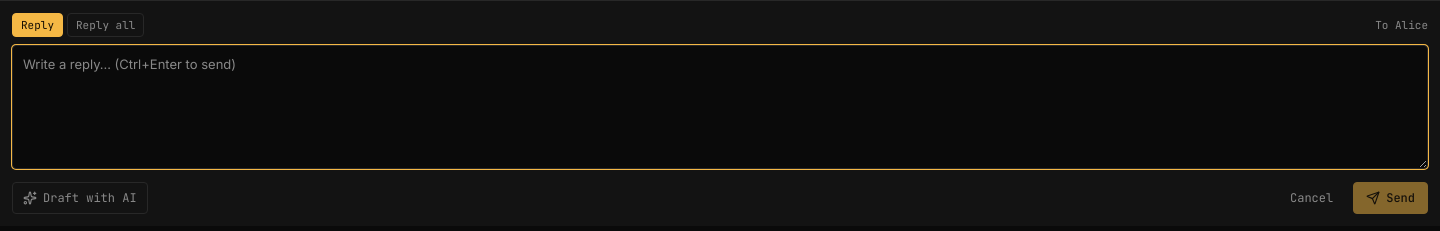
ReplyComposer draft with AI › disables the button with the server's reason once the draft endpoint 409s
Click the button "Draft with AI" at coordinates (80, 198), box [12, 182, 148, 214]
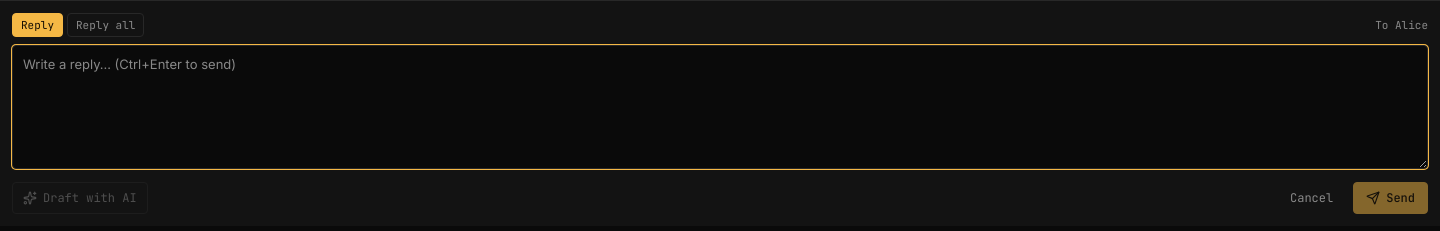
Expected: the button "Draft with AI" is disabled, [12, 182, 148, 214]
